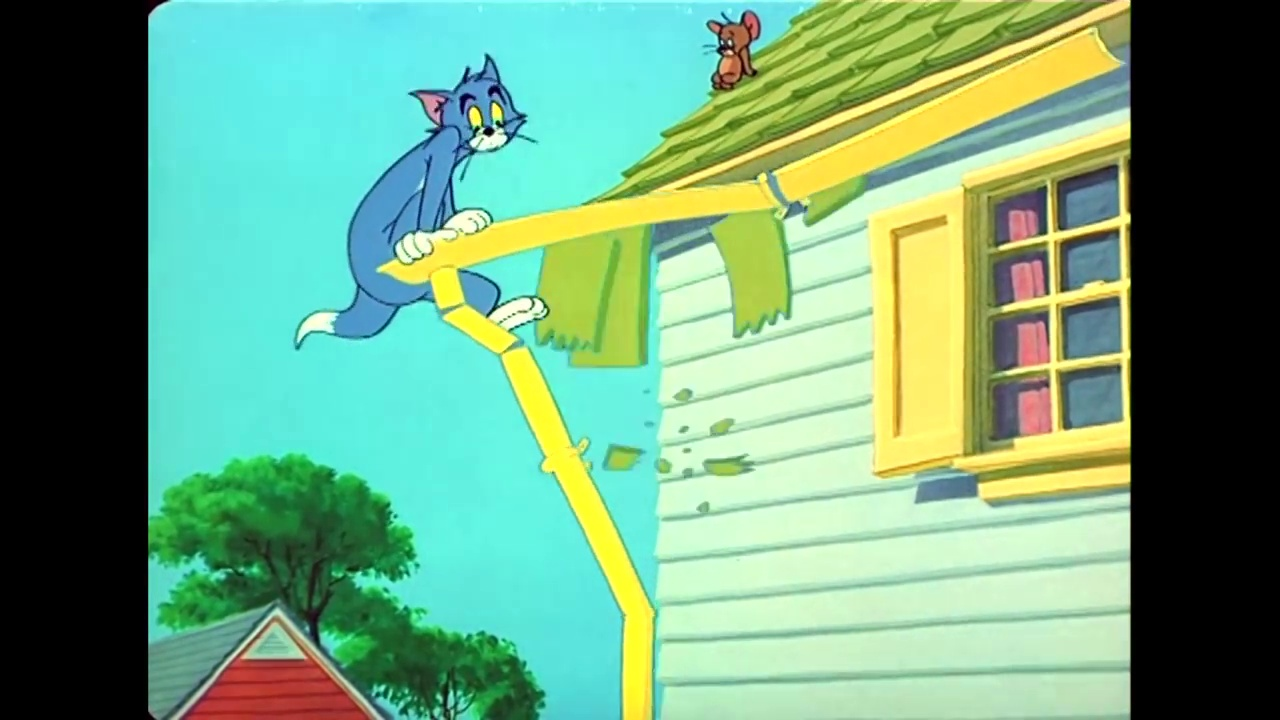tom: (404, 51, 537, 162)
